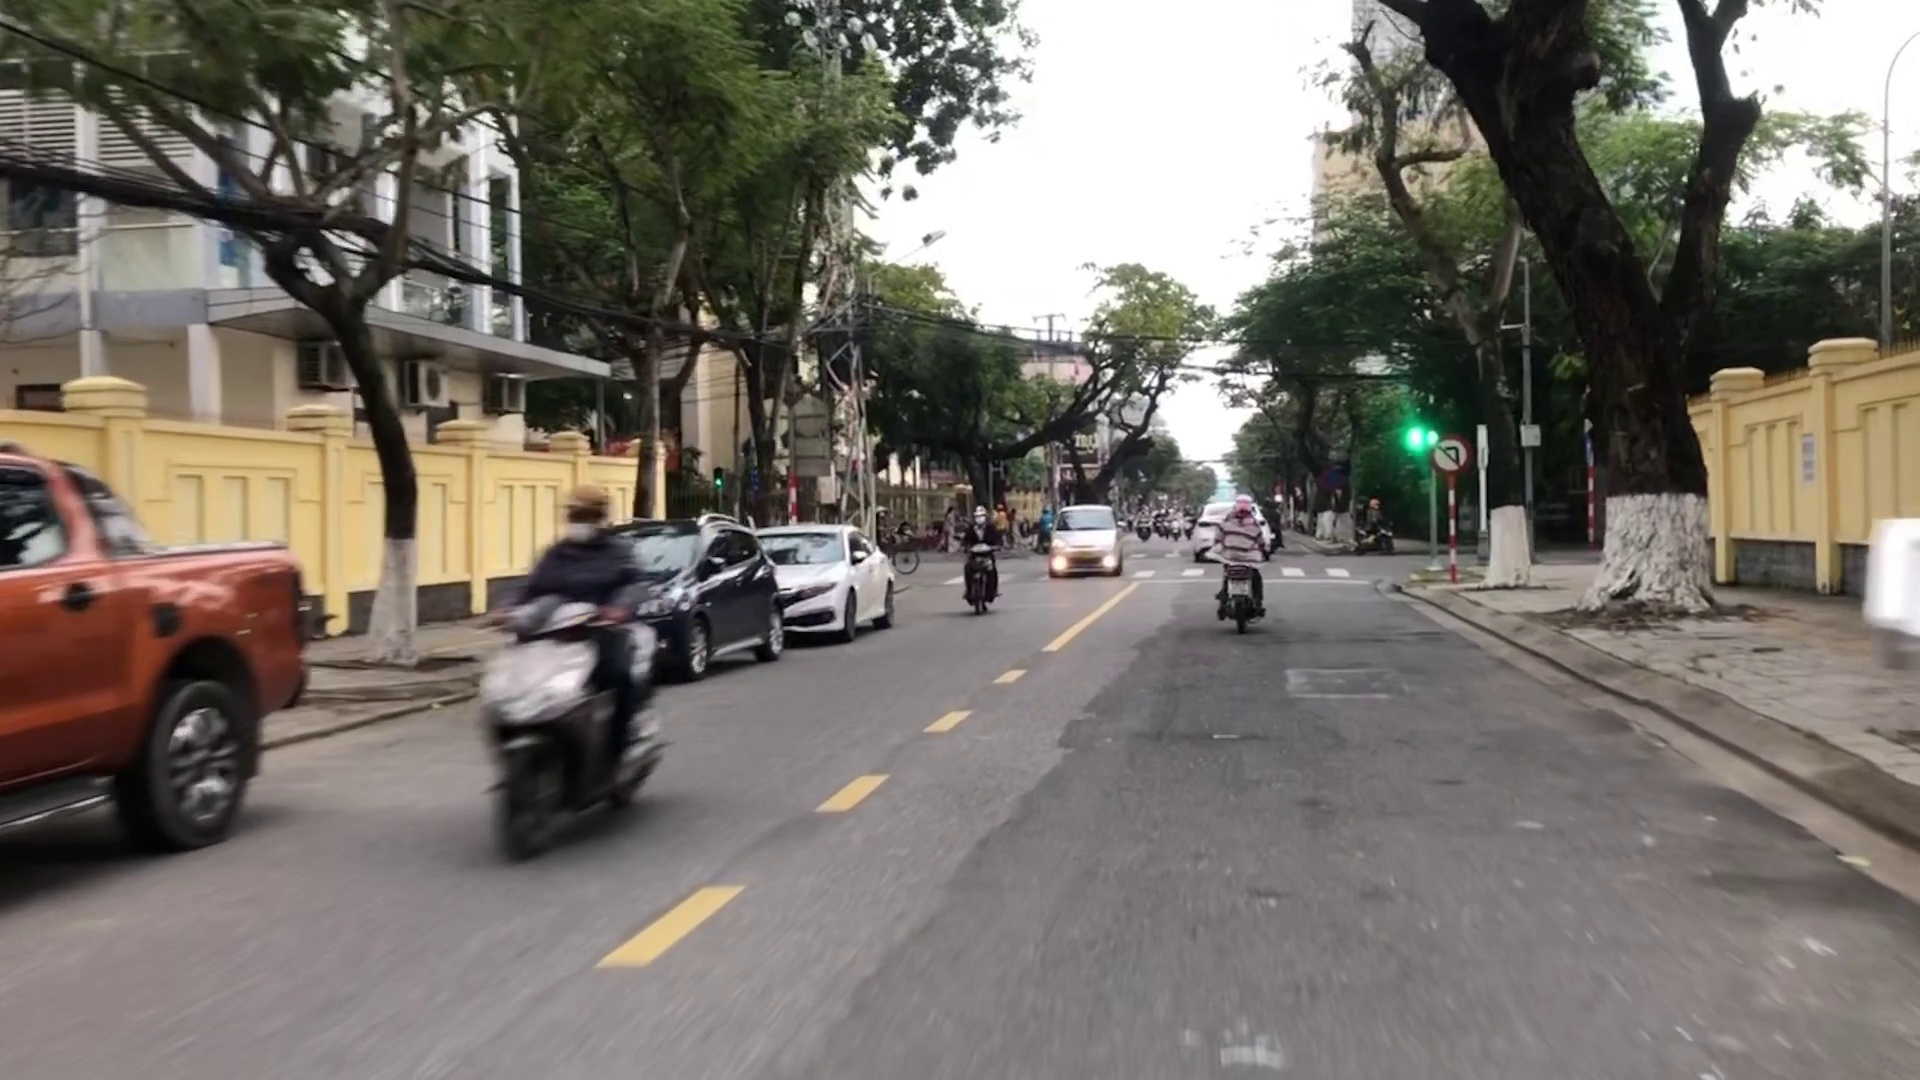Bien khac: (1420, 436, 1472, 475)
